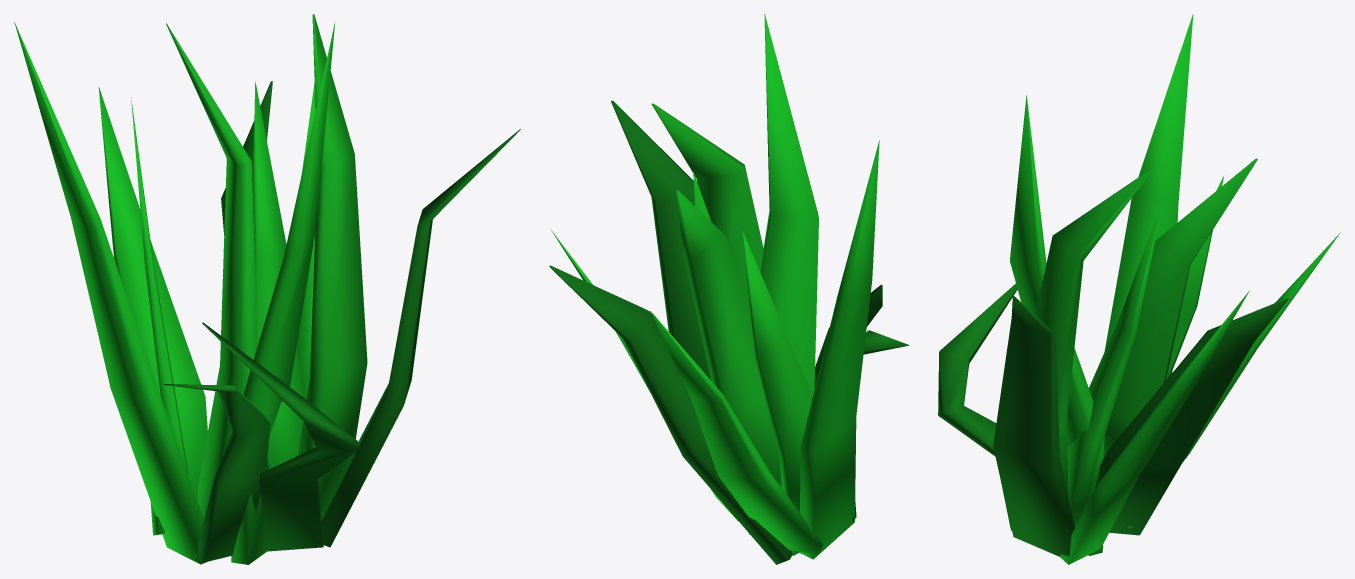
The model's file is cesped_medio.glb.
3 views of the same model, side by side, from view 1: azimuth 30°, elevation 25°; view 2: azimuth 150°, elevation 25°; view 3: azimuth 270°, elevation 25° (orthographic). The views are drawn at different scales.
Parts seen in each view (by area): view 1: Cube.002; view 2: Cube.002; view 3: Cube.002.
Boxes of the visible parts, x1=… form: Cube.002: x1=14, y1=14, x2=520, y2=564; Cube.002: x1=549, y1=14, x2=909, y2=564; Cube.002: x1=938, y1=14, x2=1340, y2=564.
Bounding box in the file's own units: 5.99 × 7.77 × 5.99.
